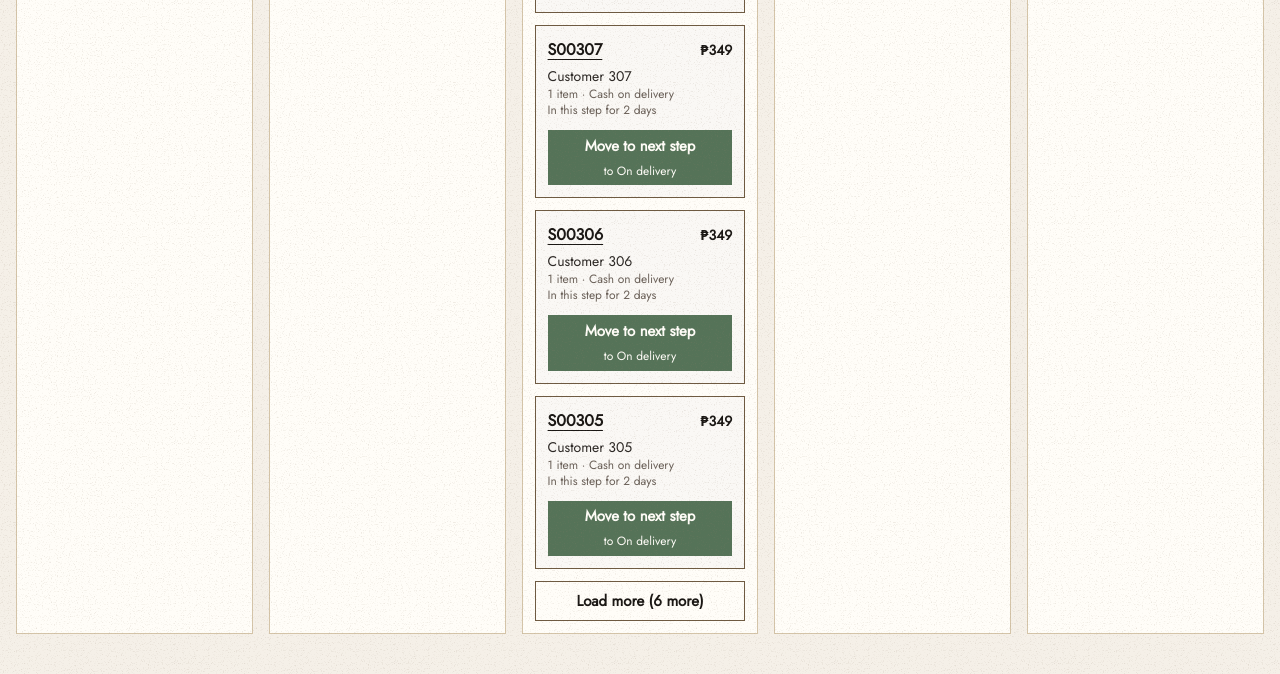
the staff board (step 11) › "Load more" adds the next page, and a refresh keeps every card it loaded (nothing collapses)
(page scrolled)
Click the button with test id "column-more". click: coordinates (640, 601)
box: [535,581,745,621]
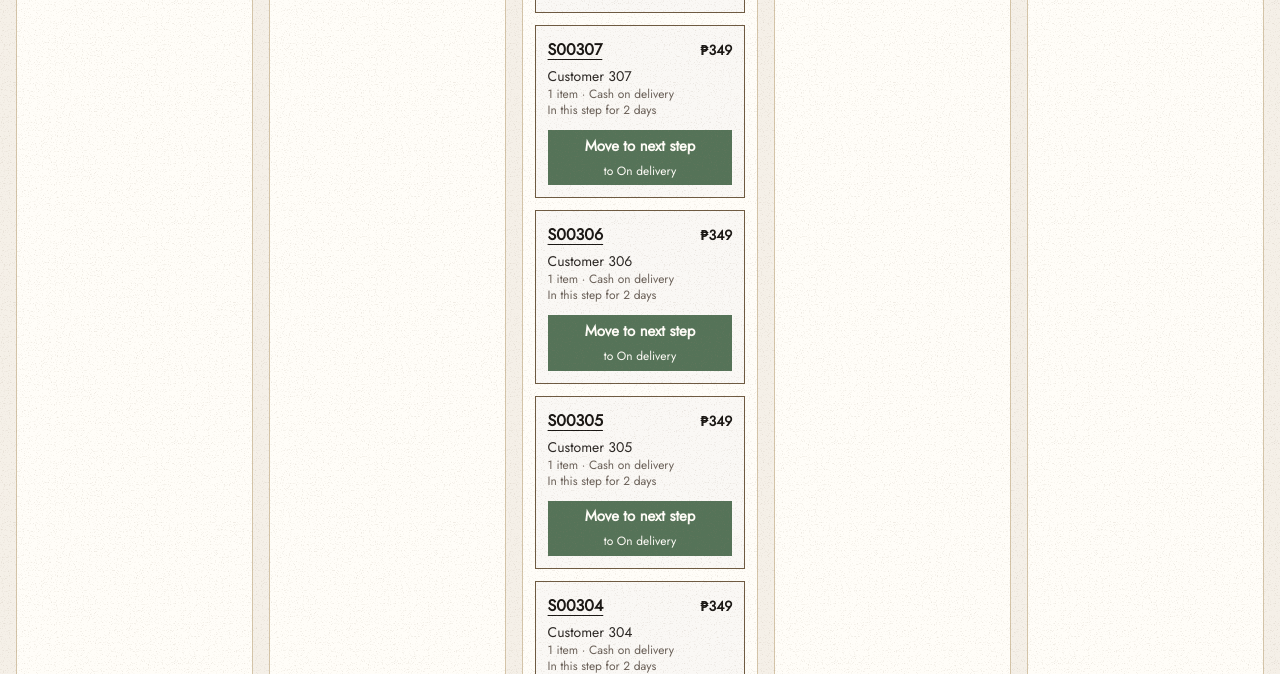
Result: the button with test id "column-more" is gone
